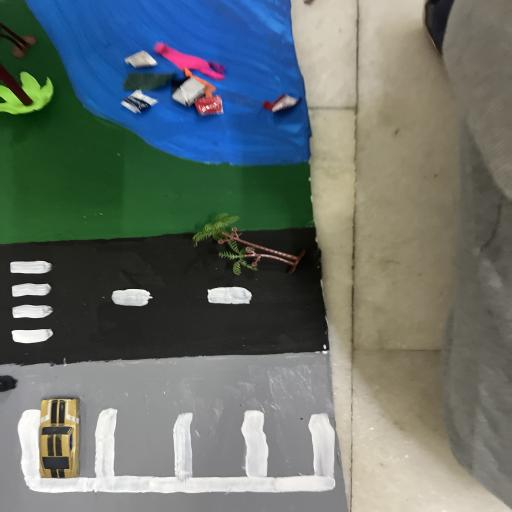fallen trees: (196, 210, 306, 277)
trash: (119, 44, 300, 117)
